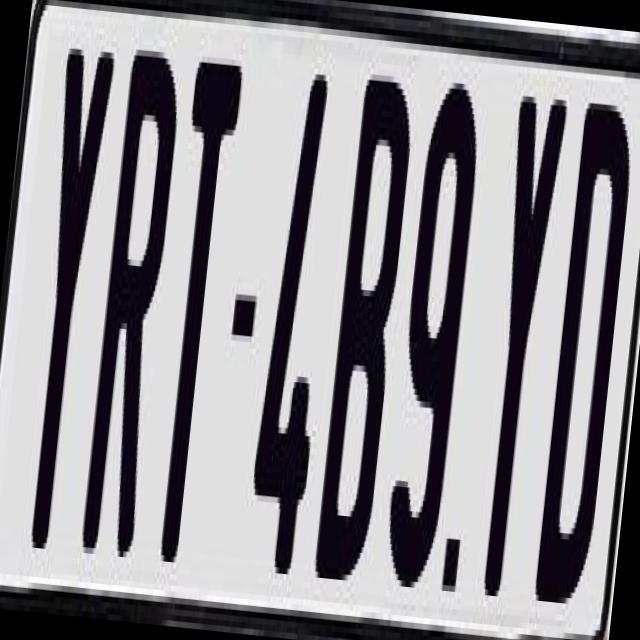4: (238, 54, 348, 592)
9: (378, 75, 488, 612)
B: (312, 68, 418, 594)
D: (528, 84, 634, 616)
R: (78, 49, 184, 568)
T: (142, 44, 248, 582)
Y: (463, 95, 569, 610), (11, 42, 116, 550)
